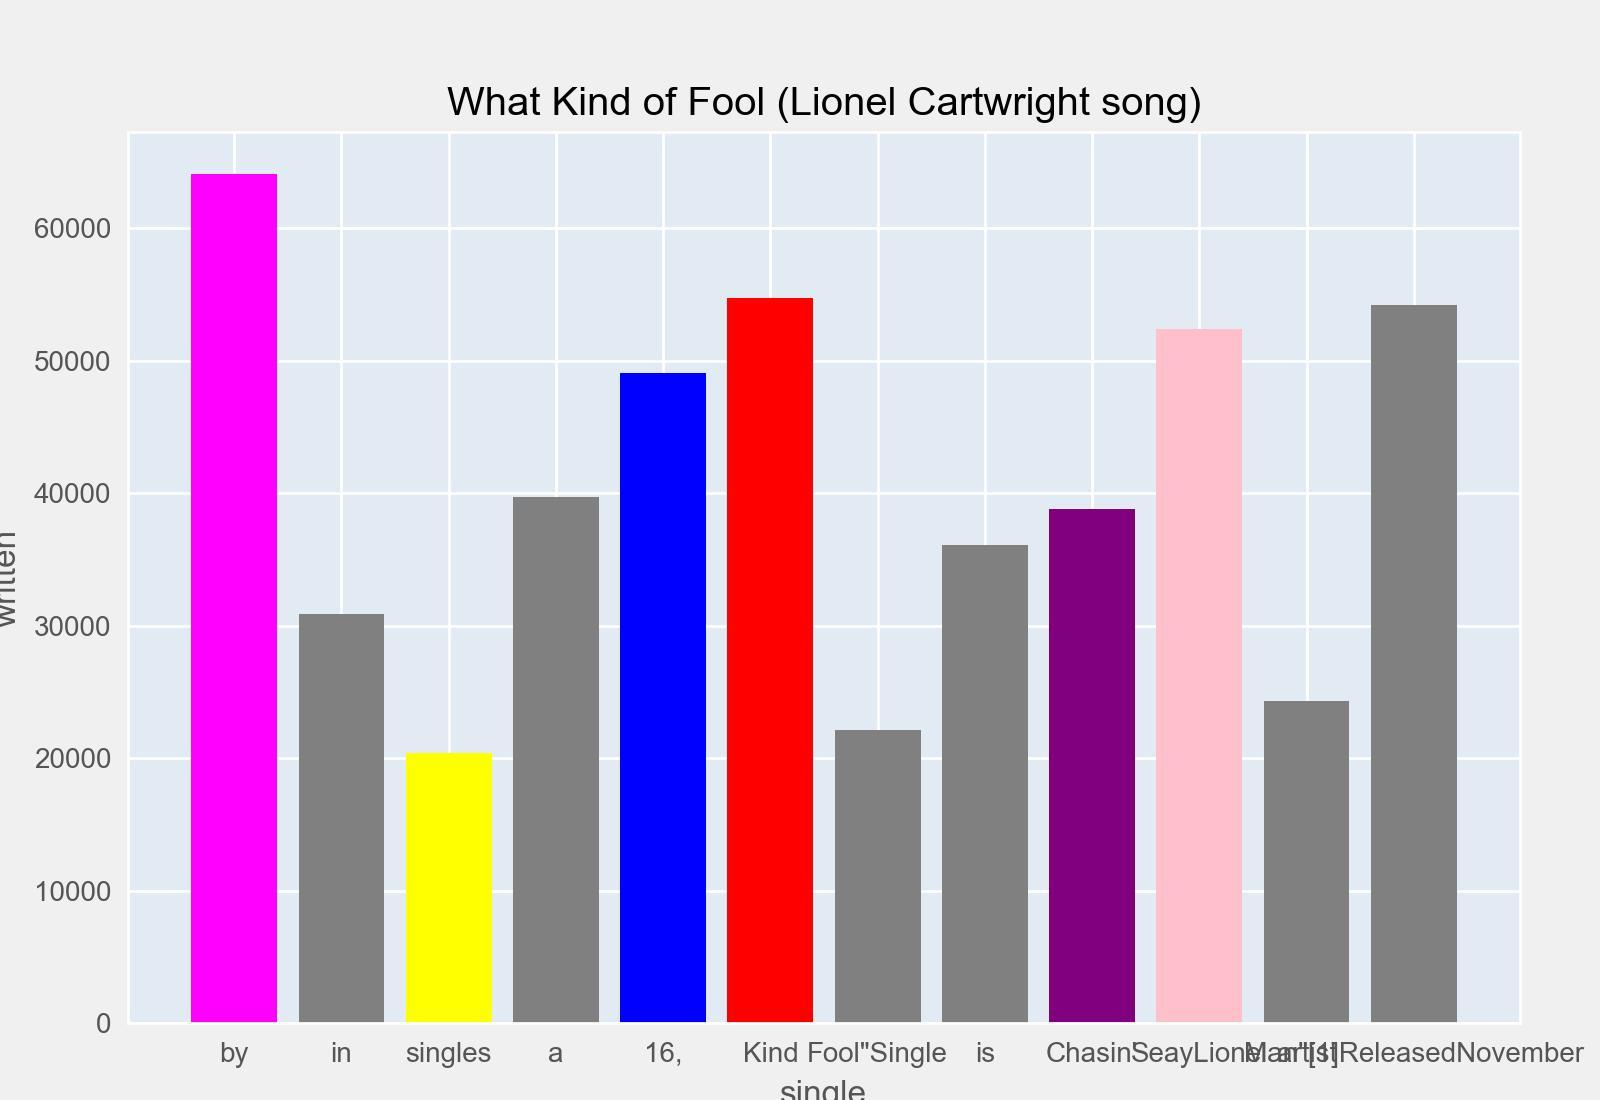axis: (0, 218, 112, 1039)
rectangle: (191, 174, 277, 1023), (727, 298, 813, 1023), (1371, 305, 1457, 1023), (1156, 329, 1243, 1023), (620, 373, 706, 1023), (513, 497, 599, 1023), (1049, 509, 1136, 1023), (942, 545, 1029, 1023), (299, 614, 384, 1023), (1263, 701, 1350, 1023), (834, 730, 920, 1023), (406, 754, 491, 1023)
